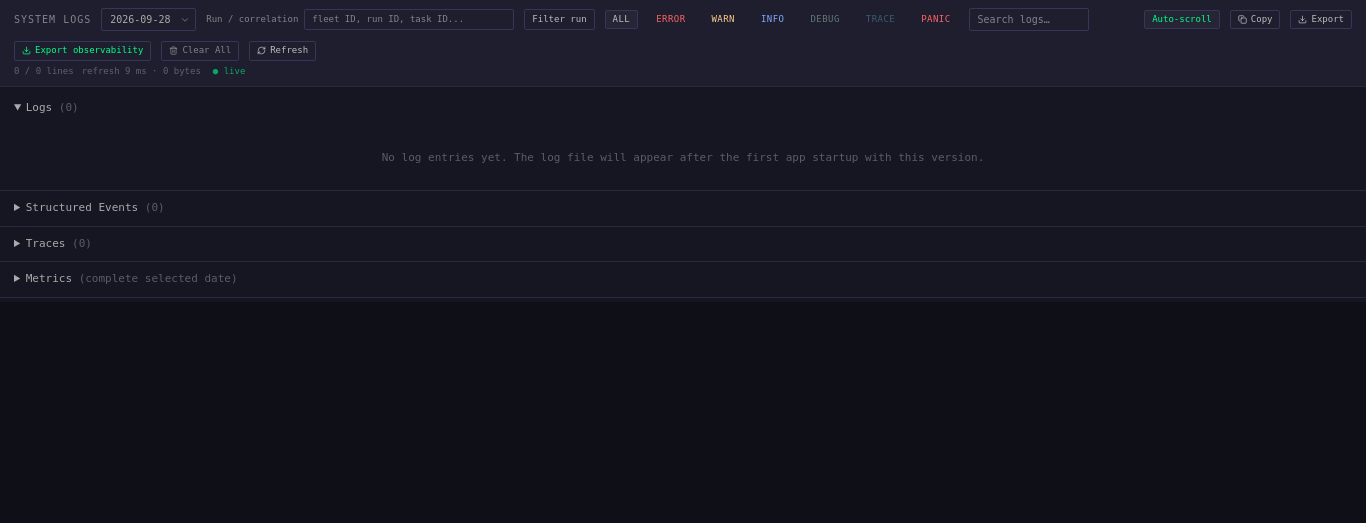
Test: Logs tab › reports zero-duration aggregates as below timer resolution
What coordinates should you click on to do the following:
click the heading "Metrics (complete selected date)"
I would click on:
 (132, 278)
Its box is [26,272,238,285].
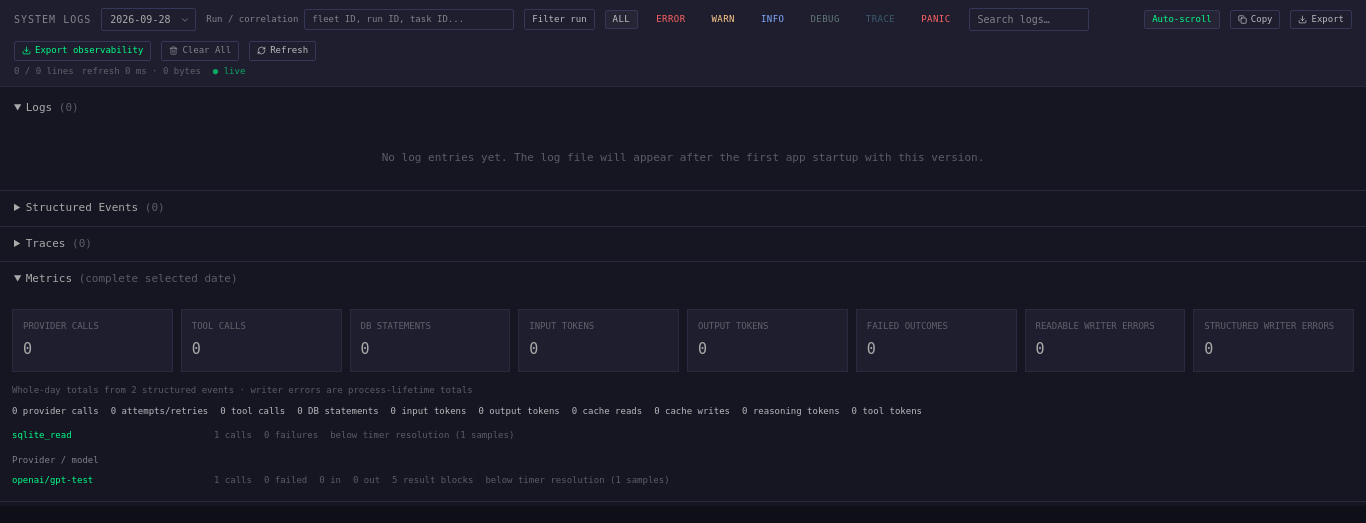
Expected: the text "below timer resolution (1 samples)" is shown 2 times, [330,428,514,442]; [485,474,670,487]
Expected: the text "5 result blocks" is shown, [392,474,473,487]
